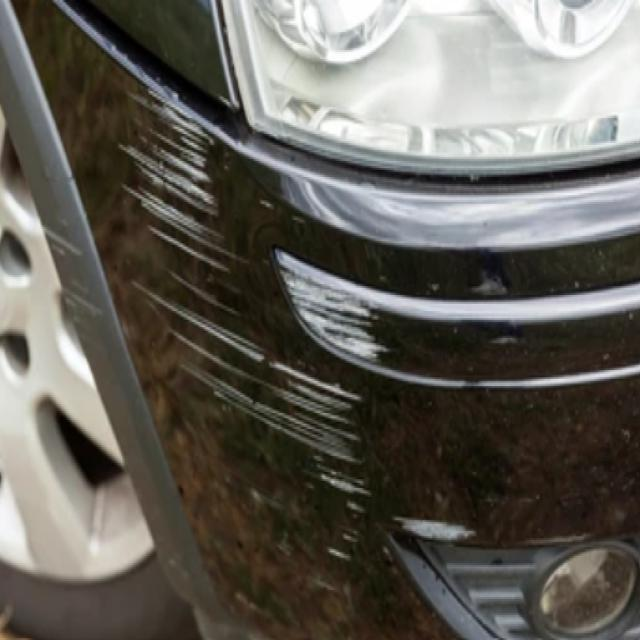scratch: (107, 75, 315, 231), (172, 369, 386, 501), (274, 249, 446, 370), (121, 229, 263, 370), (385, 495, 491, 569), (307, 503, 387, 583)
